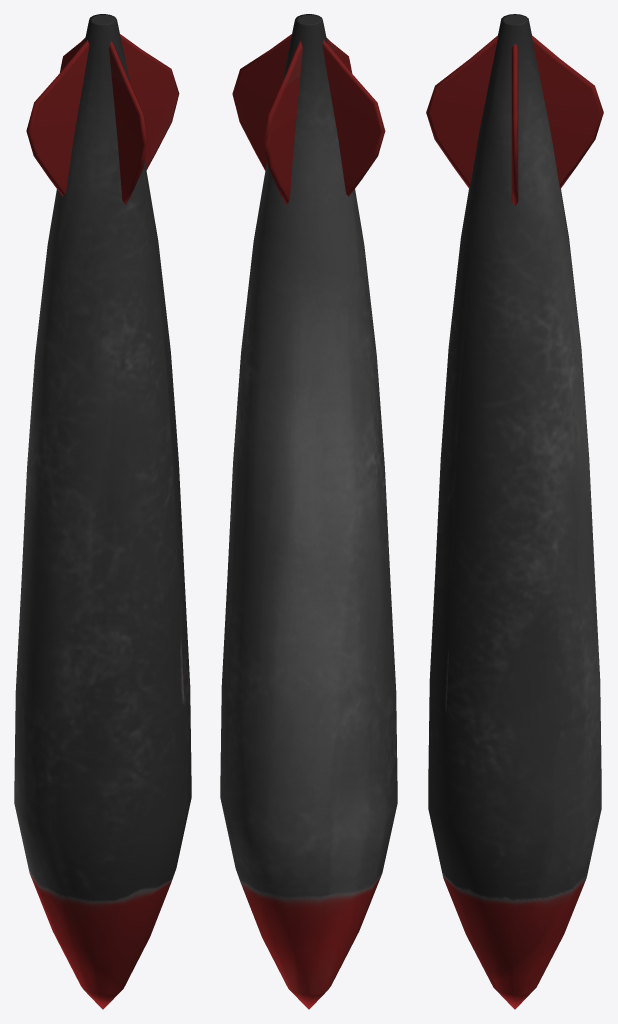
Rendered from Raket.fbx.
The picture shows the model from 3 angles, left to right: view 1: azimuth 30°, elevation 25°; view 2: azimuth 150°, elevation 25°; view 3: azimuth 270°, elevation 25°; orthographic projection.
Parts seen in each view (by area): view 1: pCube3; view 2: pCube3; view 3: pCube3.
Part boxes in pixels (left/top/right/bottom): pCube3: left=14, top=14, right=191, bottom=1009; pCube3: left=220, top=14, right=397, bottom=1009; pCube3: left=426, top=14, right=603, bottom=1009.
Bounding box in the file's own units: 0.7933 × 4.87 × 0.7921.
1 material, 1 textured.
